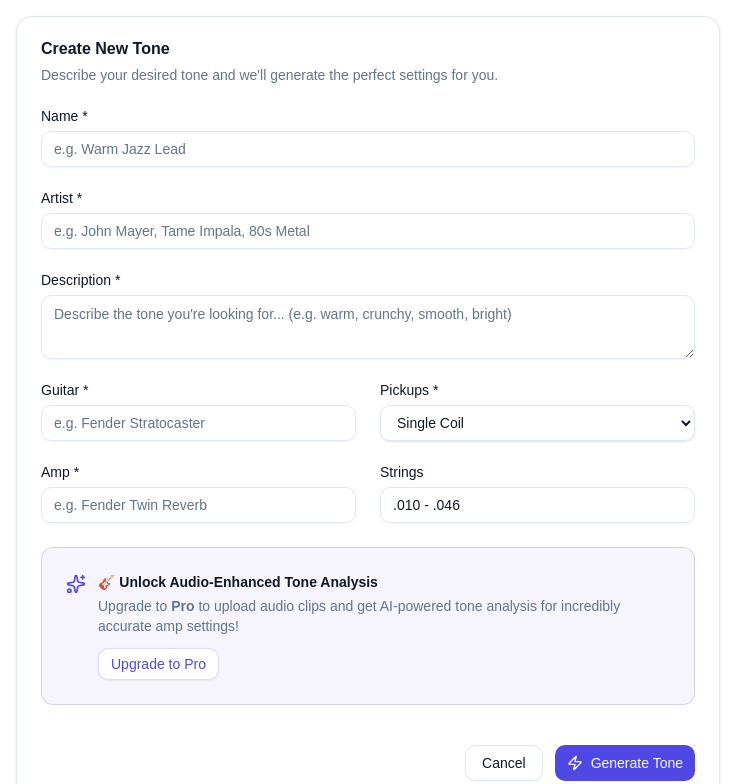
Test: ToneForm › shows error message when API returns 429 (rate limit)
The image size is (737, 784).
Type "Test" into the field labelled "Name *" at x=368, y=149, box [41,131,695,167]
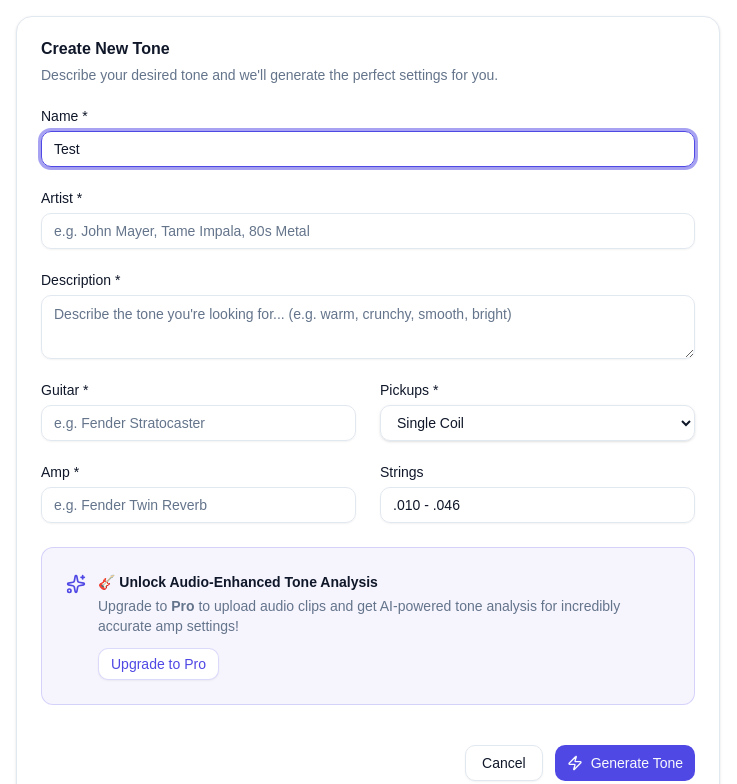
Type "Test" into the field labelled "Artist *" at x=368, y=231, box [41,213,695,249]
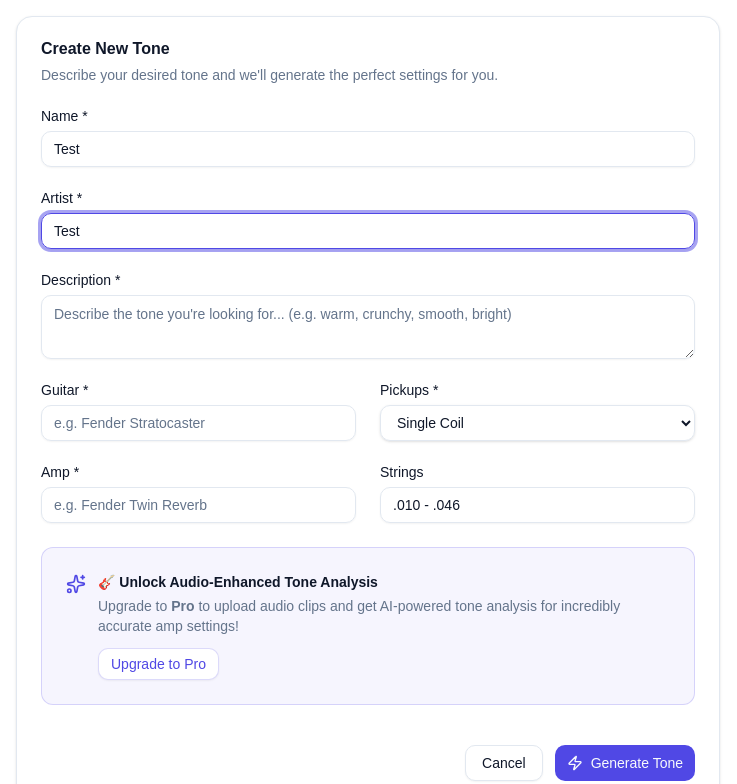
Type "Test description here" into the text box labelled "Description *" at x=368, y=327, box [41,295,695,359]
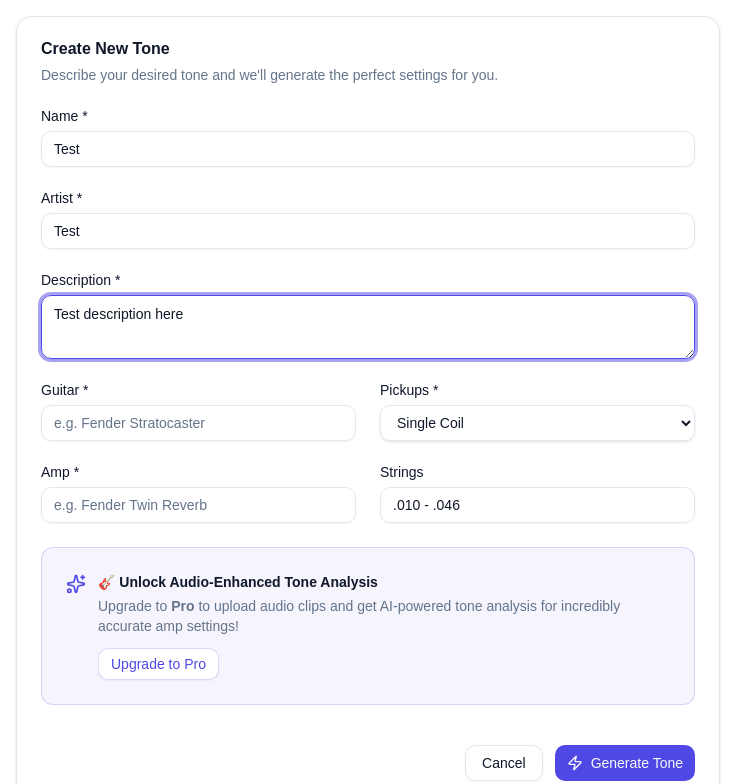
Type "Test" into the field labelled "Guitar *" at x=198, y=423, box [41,405,356,441]
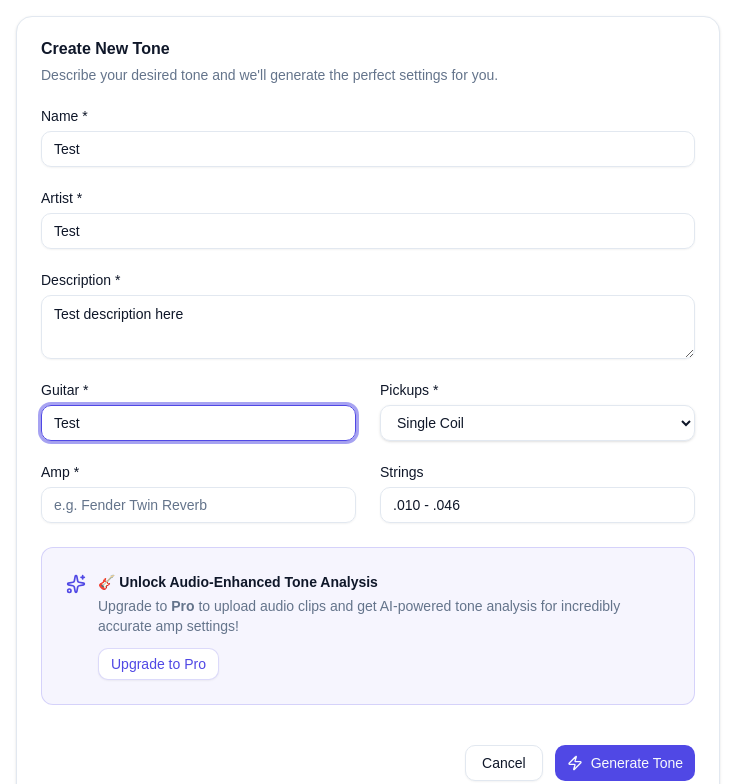
Type "Test" into the field labelled "Amp *" at x=198, y=505, box [41,487,356,523]
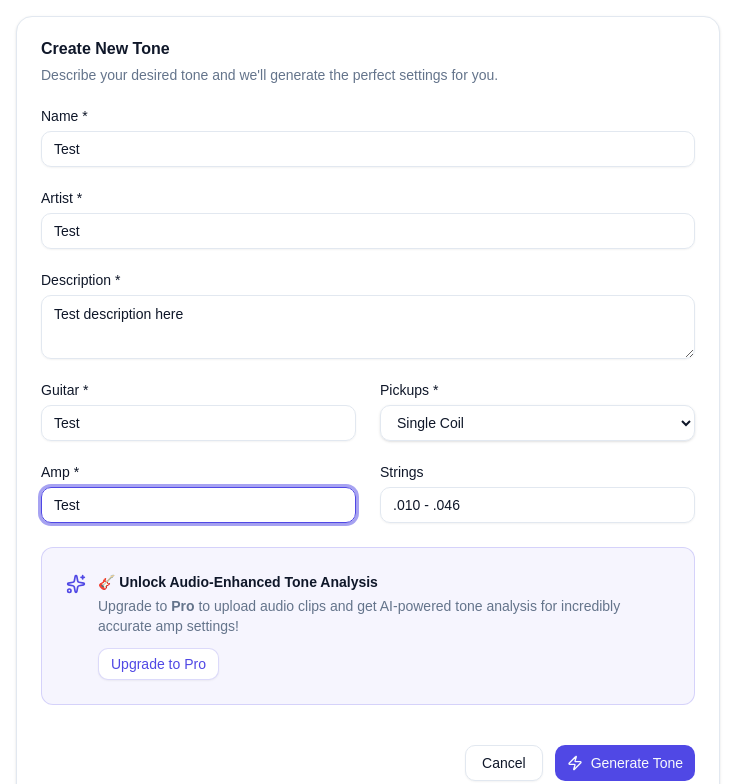
Click the button "Generate Tone" at x=625, y=763, box [555,745,695,781]
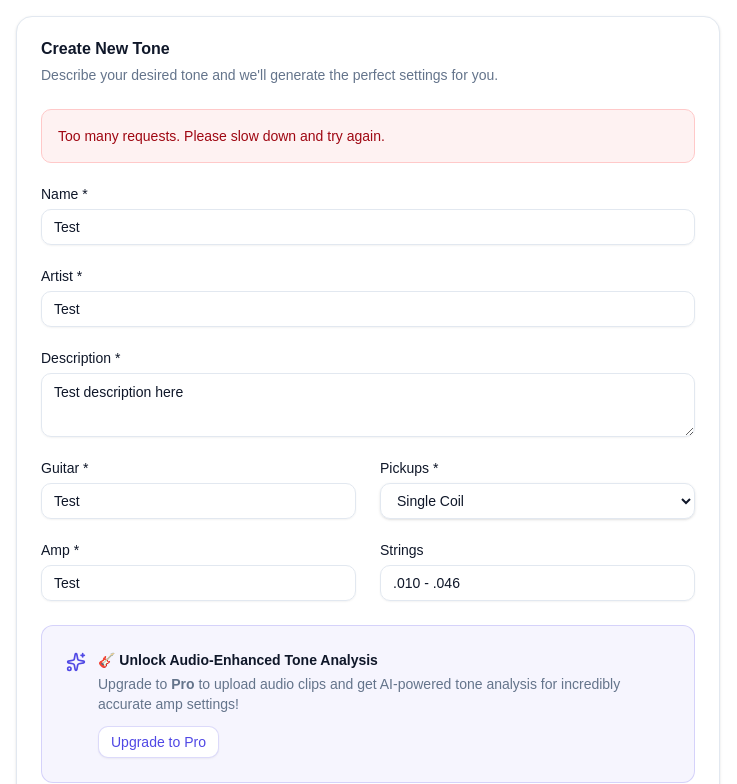
Check: the text "Too many requests. Please slow down and try again." is shown, box [41,109,695,163]
